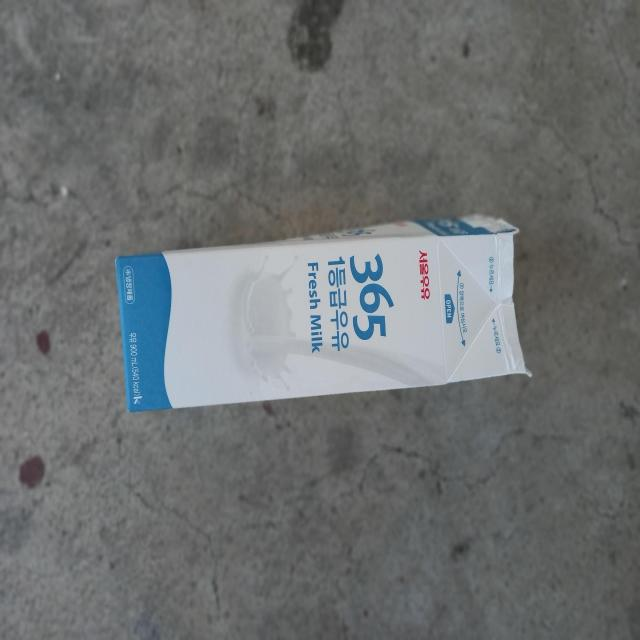paperpack: (115, 214, 527, 412)
